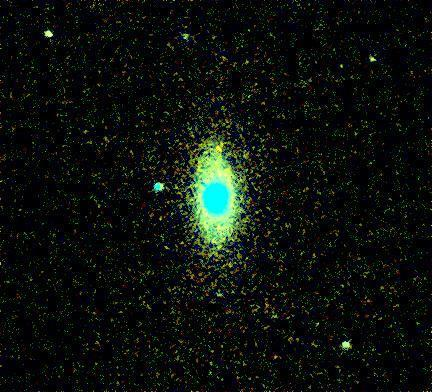star: (204, 131, 234, 161)
